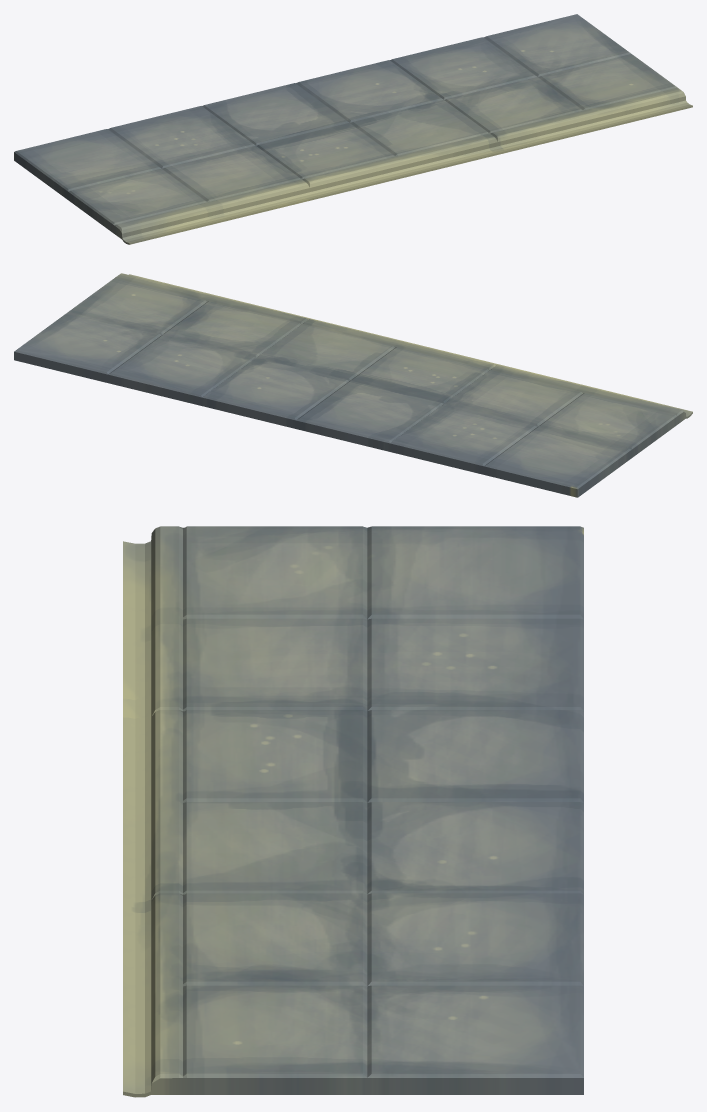
Rendered from Sidewalk_CurbMedium.gltf.
The picture shows the model from 3 angles, top to bottom: view 1: azimuth 30°, elevation 25°; view 2: azimuth 150°, elevation 25°; view 3: azimuth 270°, elevation 25°; orthographic projection. The views are drawn at different scales.
Parts seen in each view (by area): view 1: SideWalkCurb_Medium; view 2: SideWalkCurb_Medium; view 3: SideWalkCurb_Medium.
Part boxes in pixels (<box>): SideWalkCurb_Medium: <box>14,14,692,244</box>; SideWalkCurb_Medium: <box>14,273,692,497</box>; SideWalkCurb_Medium: <box>123,526,583,1097</box>.
Size of the model in its own units: 7.97 by 0.1497 by 2.82.
1 material, 1 textured.
